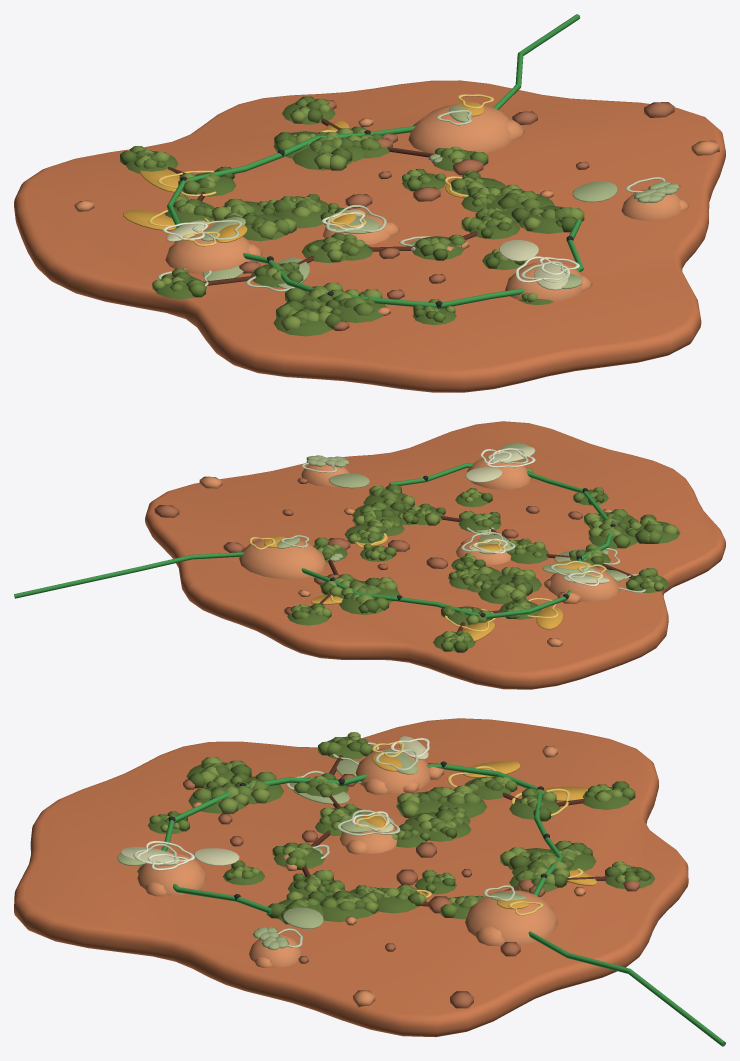
The picture shows the model from 3 angles, top to bottom: view 1: azimuth 30°, elevation 25°; view 2: azimuth 150°, elevation 25°; view 3: azimuth 270°, elevation 25°; orthographic projection. The views are drawn at different scales.
Parts seen in each view (by area): view 1: Cylinder, Sphere.051, Sphere, Sphere.053, Sphere.054, pipe.003, Cylinder.001, Sphere.011, Cylinder.002, Cylinder.003, Torus, Torus.001 (+2 smaller); view 2: Cylinder, Sphere.051, Sphere, Sphere.053, Sphere.054, pipe.003, Cylinder.001, Sphere.011, Cylinder.002, Cylinder.003, Torus, Torus.001 (+2 smaller); view 3: Cylinder, Sphere.051, Sphere, Sphere.053, Sphere.054, pipe.003, Cylinder.001, Sphere.011, Cylinder.002, Cylinder.003, Torus, Torus.001 (+2 smaller).
Part boxes in pixels (box(x1,y1,x2,y2)): Cylinder: box(14, 80, 725, 392); Sphere.051: box(120, 96, 576, 336); Sphere: box(74, 104, 719, 315); Sphere.053: box(130, 98, 571, 322); Sphere.054: box(139, 104, 584, 330); pipe.003: box(167, 14, 583, 308); Cylinder.001: box(201, 105, 680, 289); Sphere.011: box(239, 100, 674, 330); Cylinder.002: box(123, 101, 484, 242); Cylinder.003: box(166, 209, 568, 290); Torus: box(158, 110, 665, 291); Torus.001: box(148, 94, 494, 246); Cylinder: box(145, 421, 725, 689); Sphere.051: box(287, 477, 680, 652); Sphere: box(199, 457, 619, 646); Sphere.053: box(290, 470, 663, 651); Sphere.054: box(299, 468, 678, 641); pipe.003: box(14, 463, 613, 618); Cylinder.001: box(277, 442, 627, 581); Sphere.011: box(154, 478, 598, 614); Cylinder.002: box(264, 536, 591, 641); Cylinder.003: box(465, 446, 609, 583); Torus: box(280, 448, 645, 592); Torus.001: box(249, 533, 606, 631); Cylinder: box(14, 718, 688, 1037); Sphere.051: box(137, 736, 655, 922); Sphere: box(137, 746, 585, 1007); Sphere.053: box(149, 737, 645, 917); Sphere.054: box(160, 732, 629, 924); pipe.003: box(161, 764, 725, 1046); Cylinder.001: box(117, 749, 526, 950); Sphere.011: box(183, 774, 640, 1008); Cylinder.002: box(363, 753, 597, 909); Cylinder.003: box(120, 736, 428, 865); Torus: box(133, 742, 515, 947); Torus.001: box(355, 741, 583, 915).
Bounding box in the file's own units: 1.57 × 0.1338 × 1.51.
